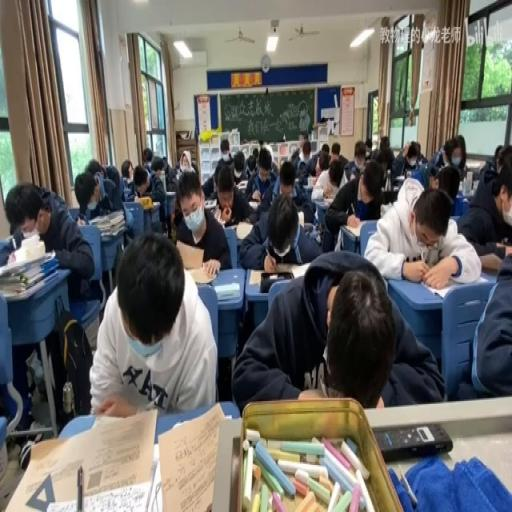calculator: (1, 405, 161, 508), (157, 402, 227, 512), (248, 260, 309, 283), (420, 280, 460, 300), (186, 263, 218, 285), (214, 282, 240, 300), (234, 219, 253, 240), (344, 218, 366, 236), (211, 205, 226, 222), (312, 195, 329, 206), (380, 200, 393, 214), (202, 199, 216, 208), (306, 176, 316, 188), (302, 222, 314, 232), (297, 209, 304, 226), (246, 201, 260, 209), (236, 179, 248, 188), (224, 222, 237, 230), (149, 199, 159, 209), (394, 172, 405, 179), (165, 189, 175, 196), (294, 178, 300, 185)
paper: (232, 246, 440, 411), (1, 176, 97, 424), (90, 231, 216, 418), (365, 178, 480, 287), (451, 233, 510, 400), (238, 183, 318, 266), (173, 169, 232, 272), (323, 156, 382, 248), (85, 158, 126, 217), (206, 138, 236, 193), (430, 134, 466, 178), (389, 140, 425, 184), (492, 152, 512, 225), (305, 141, 336, 182), (148, 151, 178, 192), (373, 136, 395, 175), (342, 142, 363, 181), (256, 142, 278, 176), (277, 161, 294, 193), (132, 166, 150, 196), (0, 234, 14, 268), (329, 165, 342, 188), (246, 150, 258, 174), (363, 138, 373, 161), (121, 159, 133, 178), (494, 144, 503, 168), (142, 146, 152, 165), (290, 146, 299, 165), (330, 141, 340, 158), (219, 142, 229, 158), (174, 156, 184, 170), (190, 158, 198, 175), (302, 145, 310, 161), (321, 144, 329, 158), (298, 132, 304, 145), (160, 155, 166, 168)
person: (374, 422, 451, 461), (495, 243, 508, 259), (384, 188, 398, 202), (315, 222, 324, 243)
